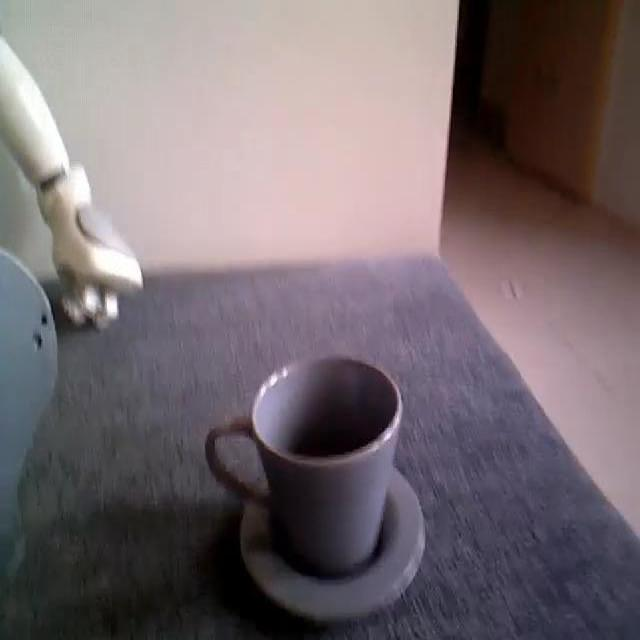cup: (219, 334, 413, 609)
